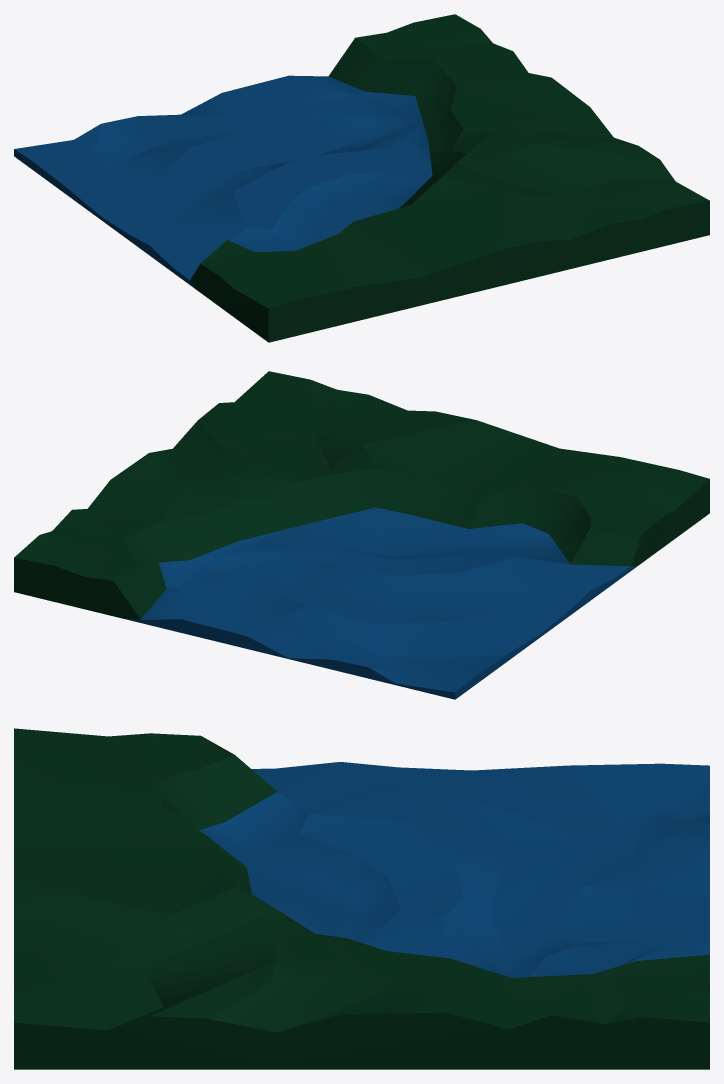
The model's file is Water_Round_RB.fbx.
3 renders of one model, top to bottom at view 1: azimuth 30°, elevation 25°; view 2: azimuth 150°, elevation 25°; view 3: azimuth 270°, elevation 25°, orthographic. The views are drawn at different scales.
Visible parts, largest first — view 1: Water_Round_RB; view 2: Water_Round_RB; view 3: Water_Round_RB.
Part boxes in pixels (x1,y1,x2,y2): Water_Round_RB: (14,14,709,342); Water_Round_RB: (14,371,709,699); Water_Round_RB: (14,728,709,1069).
Size of the model in its own units: 147 by 13.54 by 147.
